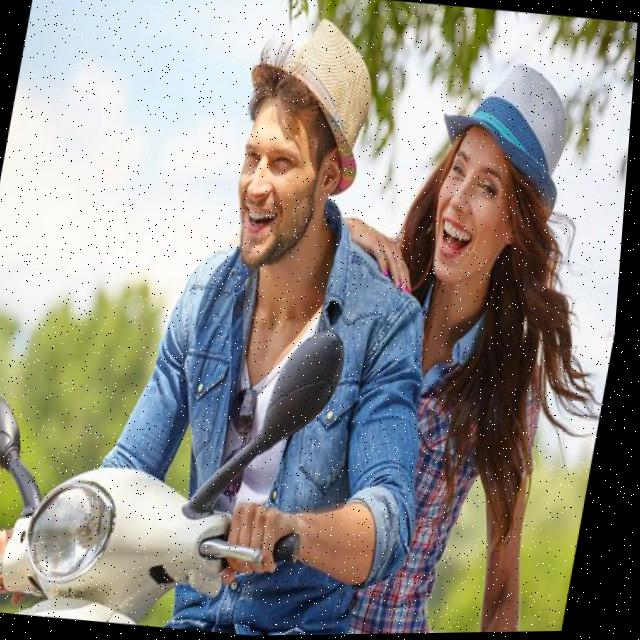illegal_helmet: (213, 0, 395, 285), (410, 46, 593, 302)
